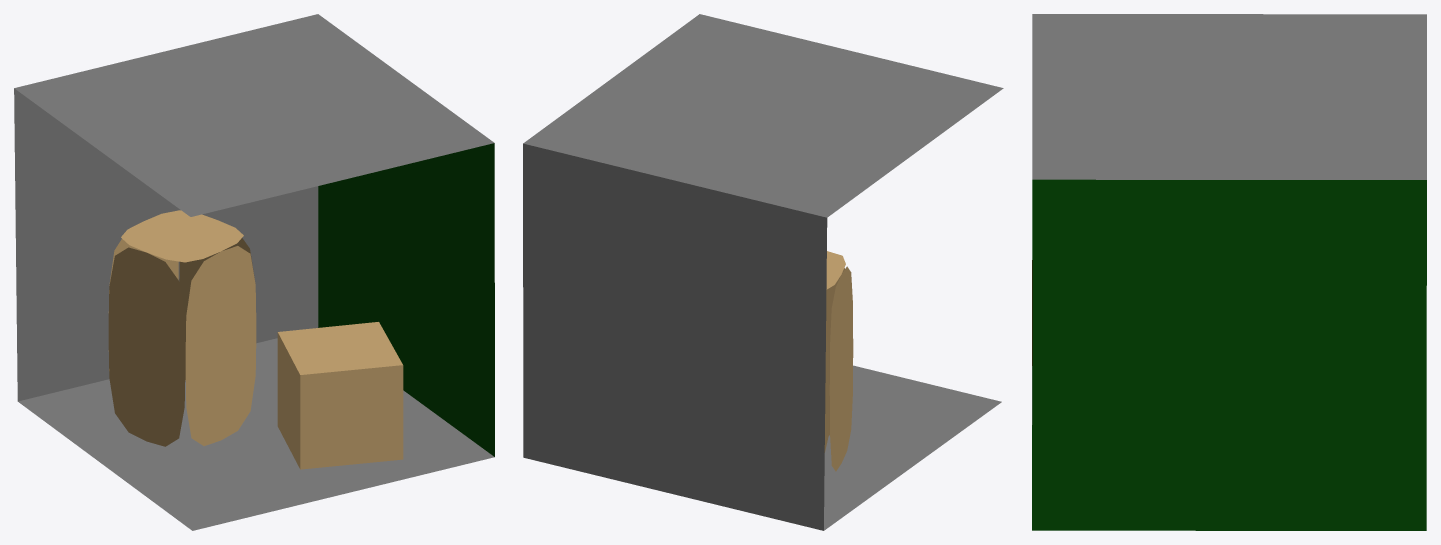
The model's file is xyz.obj.
3 renders of one model, left to right at view 1: azimuth 30°, elevation 25°; view 2: azimuth 150°, elevation 25°; view 3: azimuth 270°, elevation 25°, orthographic. The views are drawn at different scales.
Parts seen in each view (by area): view 1: ceiling, back_wall, right_wall, tall_box, floor, short_box; view 2: back_wall, ceiling, floor, tall_box; view 3: right_wall, ceiling.
Boxes of the visible parts, <box> form: ceiling: <box>14,14,494,216</box>; back_wall: <box>14,88,318,401</box>; right_wall: <box>318,143,494,456</box>; tall_box: <box>108,210,256,446</box>; floor: <box>18,338,494,530</box>; short_box: <box>277,322,403,469</box>; back_wall: <box>523,143,827,530</box>; ceiling: <box>523,14,1003,217</box>; floor: <box>824,365,1001,530</box>; tall_box: <box>824,251,853,471</box>; right_wall: <box>1032,179,1426,530</box>; ceiling: <box>1032,14,1426,179</box>.
Bounding box in the file's own units: 5.56 × 5.49 × 5.6.
